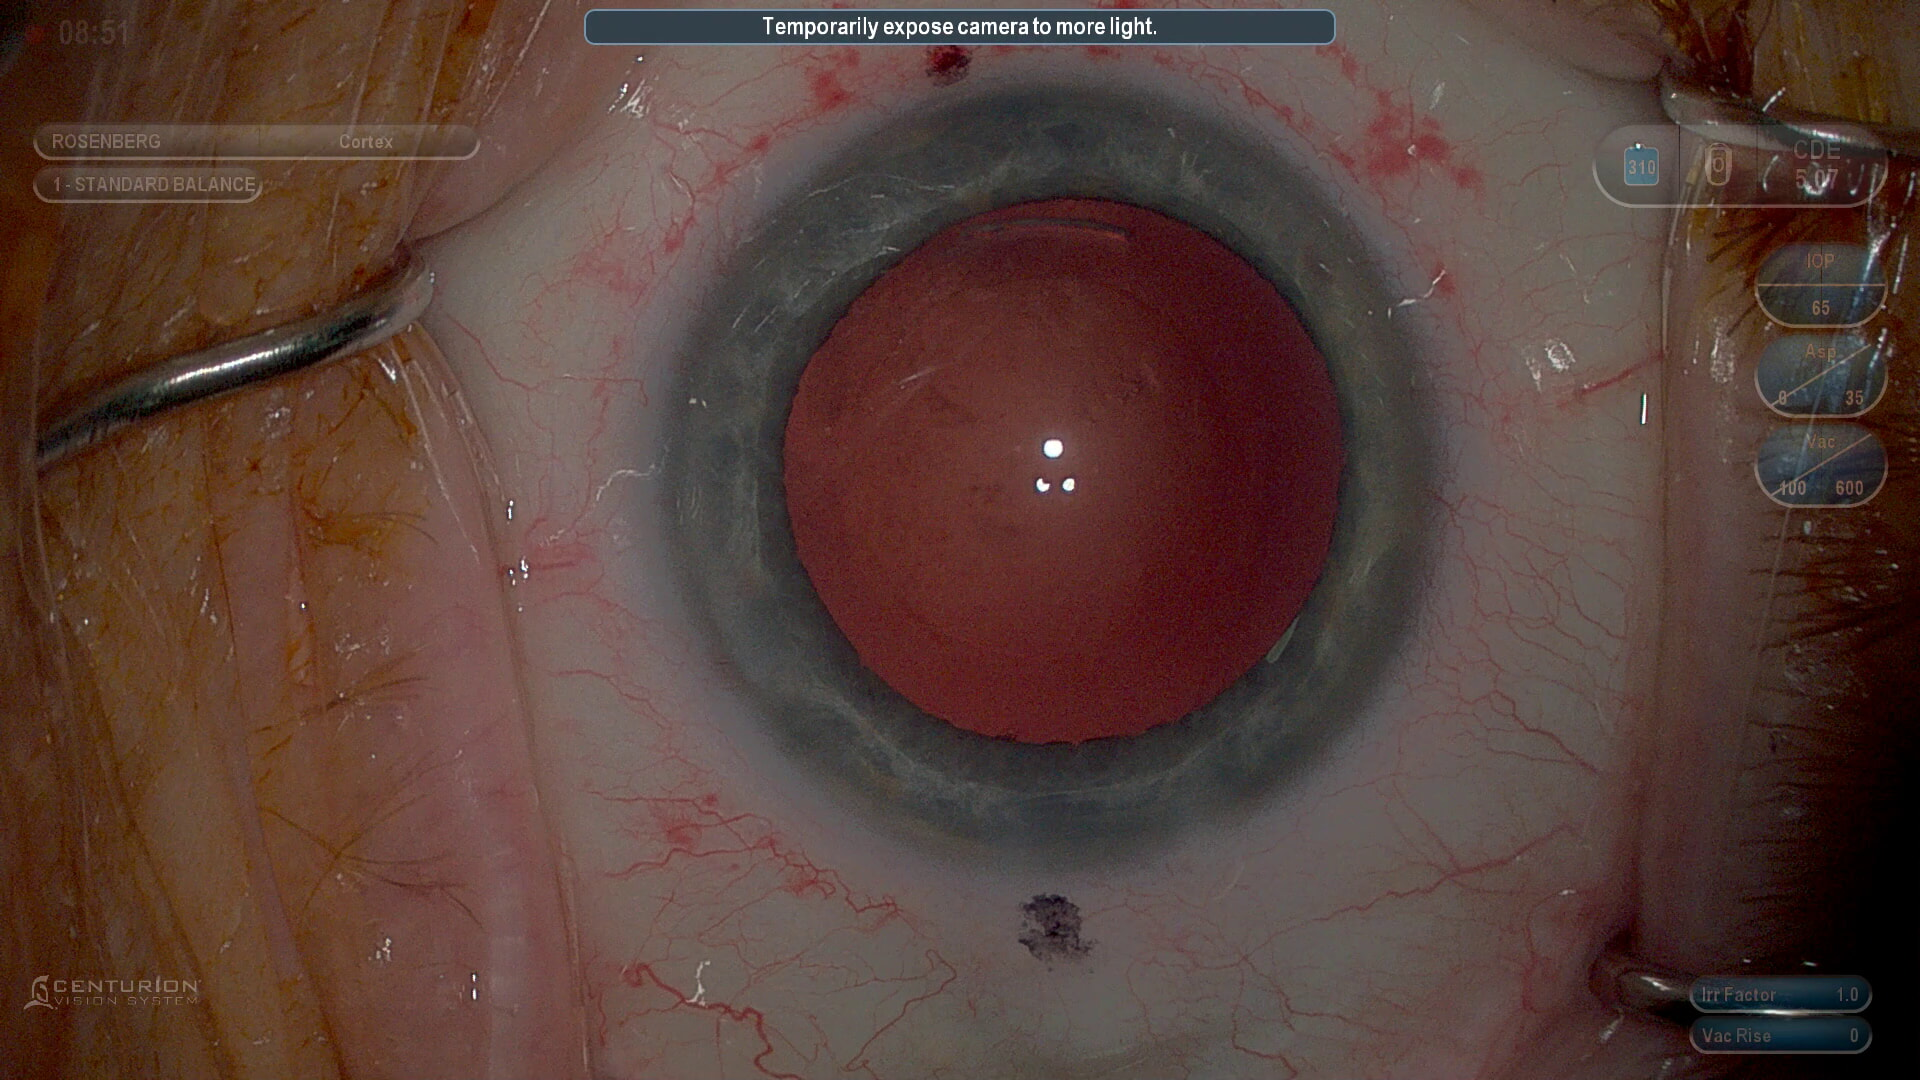iris: (666, 83, 1438, 855)
pupil: (779, 195, 1352, 733)
